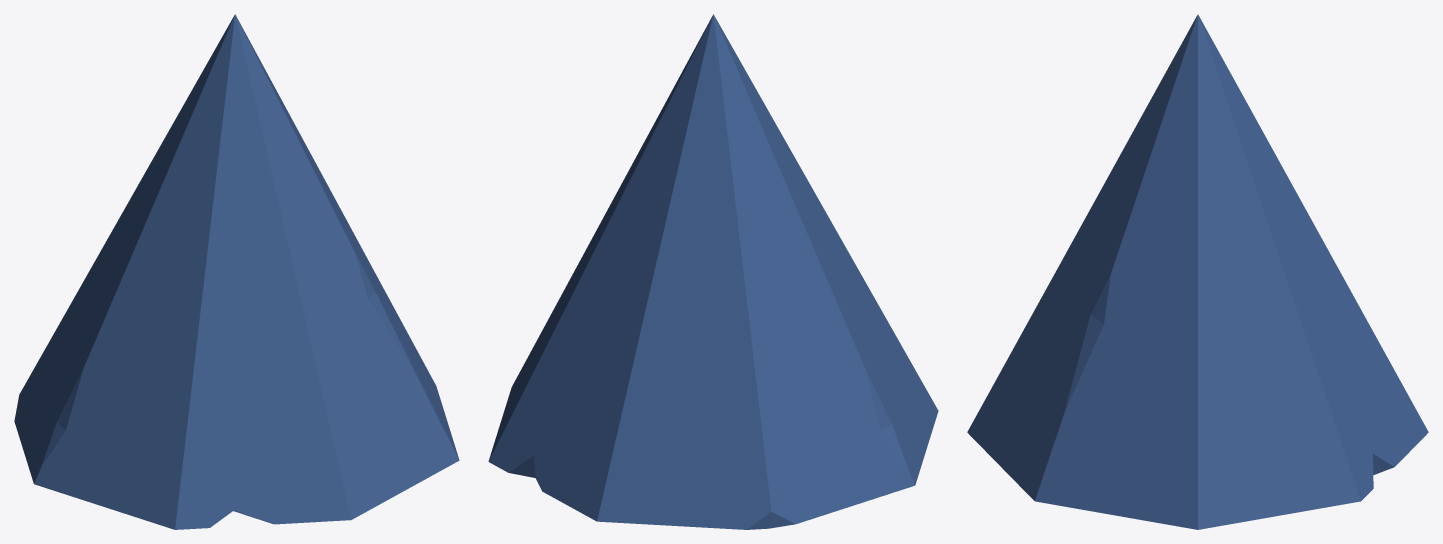
The model's file is SM_PolygonPrototype_Primitive_Cone_01P.glb.
3 renders of one model, left to right at view 1: azimuth 30°, elevation 25°; view 2: azimuth 150°, elevation 25°; view 3: azimuth 270°, elevation 25°, orthographic.
Visible parts, largest first — view 1: SM_PolygonPrototype_Primitive_Cone_01P; view 2: SM_PolygonPrototype_Primitive_Cone_01P; view 3: SM_PolygonPrototype_Primitive_Cone_01P.
Part boxes in pixels (x1,y1,x2,y2): SM_PolygonPrototype_Primitive_Cone_01P: (14, 14, 459, 529); SM_PolygonPrototype_Primitive_Cone_01P: (488, 14, 938, 529); SM_PolygonPrototype_Primitive_Cone_01P: (967, 14, 1428, 529).
Size of the model in its own units: 1 by 1 by 1.
1 material, 1 textured.
